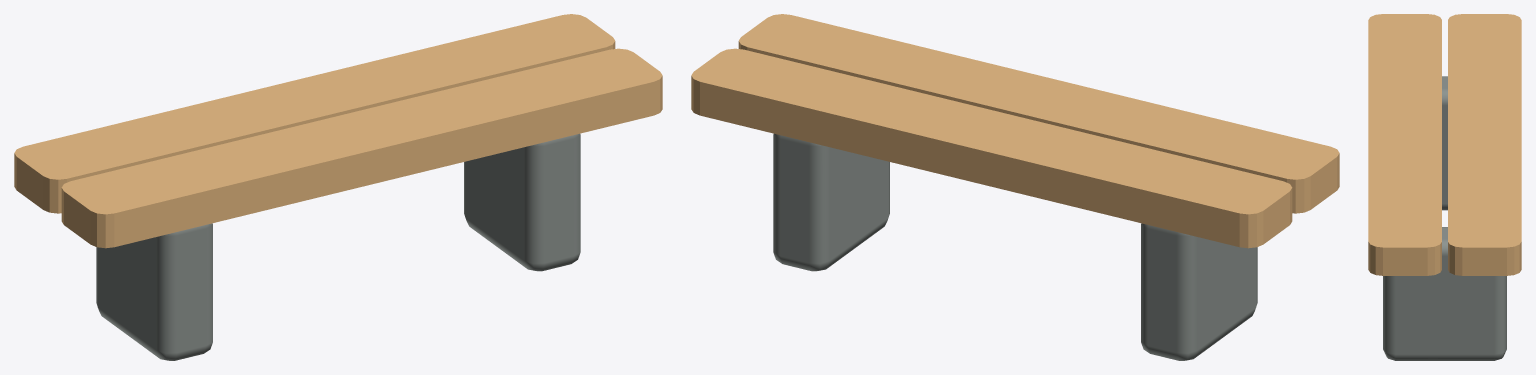
File: kit_bench_v1.glb
The picture shows the model from 3 angles, left to right: view 1: azimuth 30°, elevation 25°; view 2: azimuth 150°, elevation 25°; view 3: azimuth 270°, elevation 25°; orthographic projection. The views are drawn at different scales.
Visible parts, largest first — view 1: body; view 2: body; view 3: body.
Part boxes in pixels (x1,y1,x2,y2): body: (14, 14, 662, 360); body: (691, 14, 1339, 360); body: (1368, 14, 1521, 360).
Bounding box in the file's own units: 1.55 × 0.46 × 0.43.
